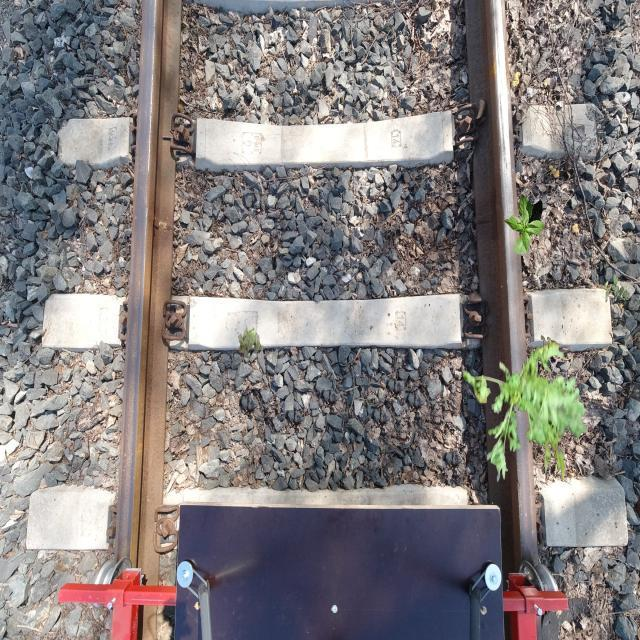Plant: (463, 335, 588, 482), (503, 194, 545, 254), (602, 274, 630, 304), (238, 326, 264, 358)
